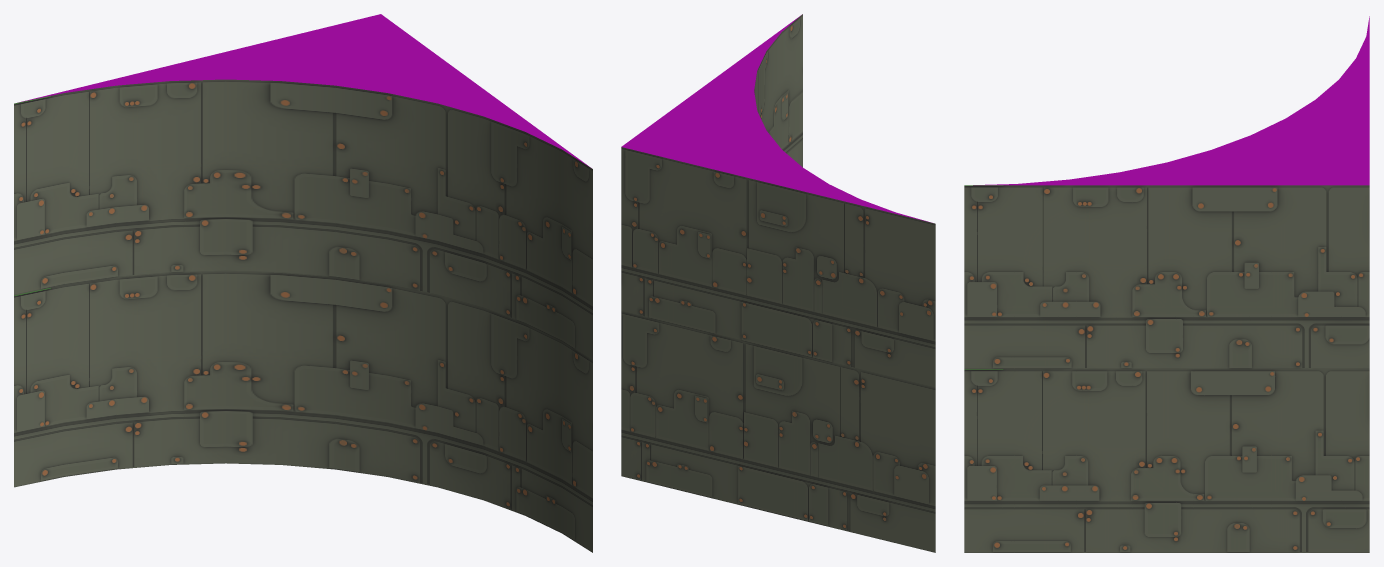
File: Block_Curved_Concave_Large_Top_Fill.fbx
The picture shows the model from 3 angles, left to right: view 1: azimuth 30°, elevation 25°; view 2: azimuth 150°, elevation 25°; view 3: azimuth 270°, elevation 25°; orthographic projection. The views are drawn at different scales.
Parts seen in each view (by area): view 1: Block_Curved_Concave_Large_Top_Fill, Block_Curved_Concave_Large_Fill; view 2: Block_Curved_Concave_Large_Top_Fill, Block_Curved_Concave_Large_Fill; view 3: Block_Curved_Concave_Large_Top_Fill, Block_Curved_Concave_Large_Fill.
Part boxes in pixels (box(x1,y1,x2,y2)): Block_Curved_Concave_Large_Top_Fill: box(14, 14, 592, 360); Block_Curved_Concave_Large_Fill: box(14, 271, 592, 552); Block_Curved_Concave_Large_Top_Fill: box(621, 14, 935, 388); Block_Curved_Concave_Large_Fill: box(621, 311, 935, 552); Block_Curved_Concave_Large_Top_Fill: box(964, 16, 1369, 369); Block_Curved_Concave_Large_Fill: box(964, 369, 1369, 552).
Bounding box in the file's own units: 200 × 200 × 200.
